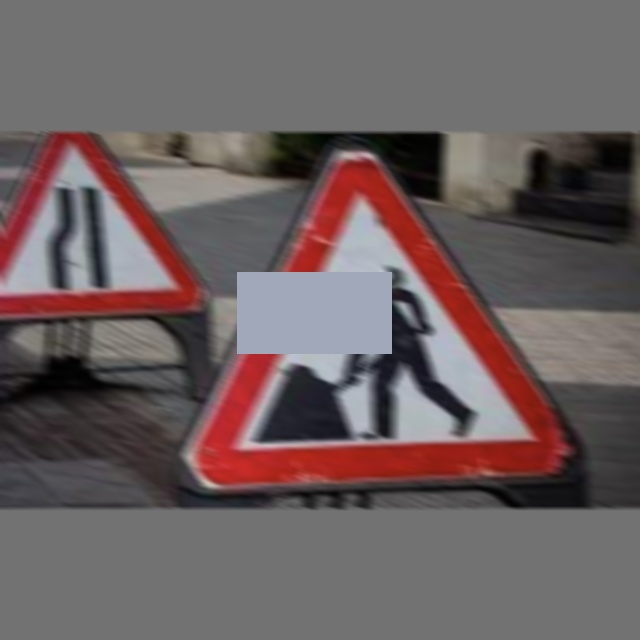Men_at_Work: (186, 177, 563, 498)
